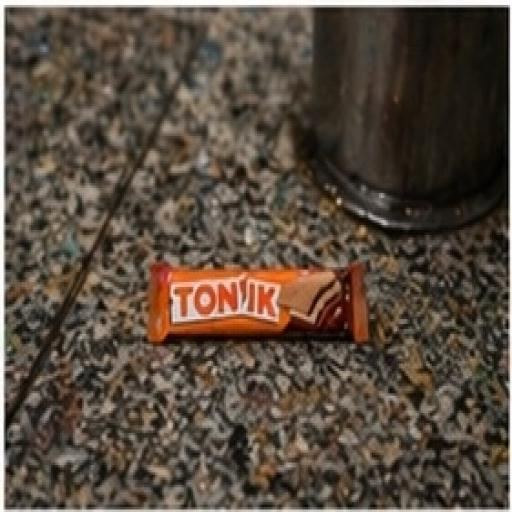tonik: (87, 124, 447, 419)
